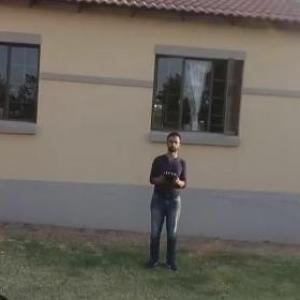follow: (143, 125, 190, 278)
